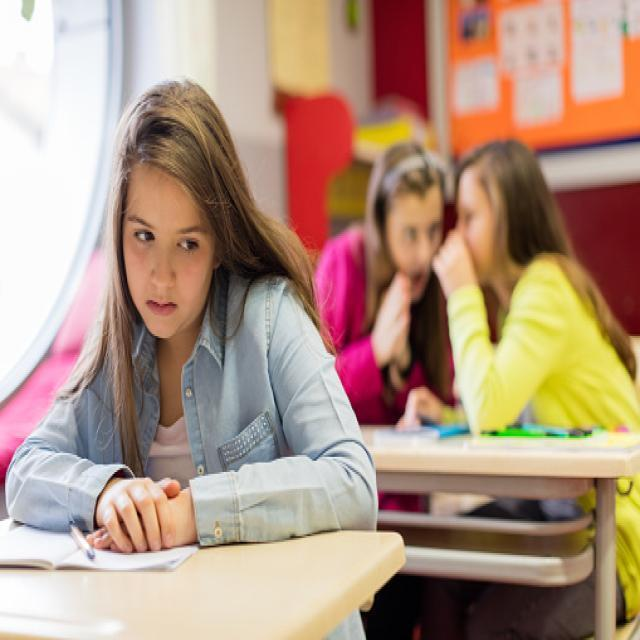Looking away: (120, 163, 214, 343), (386, 184, 442, 298), (456, 166, 498, 286)
